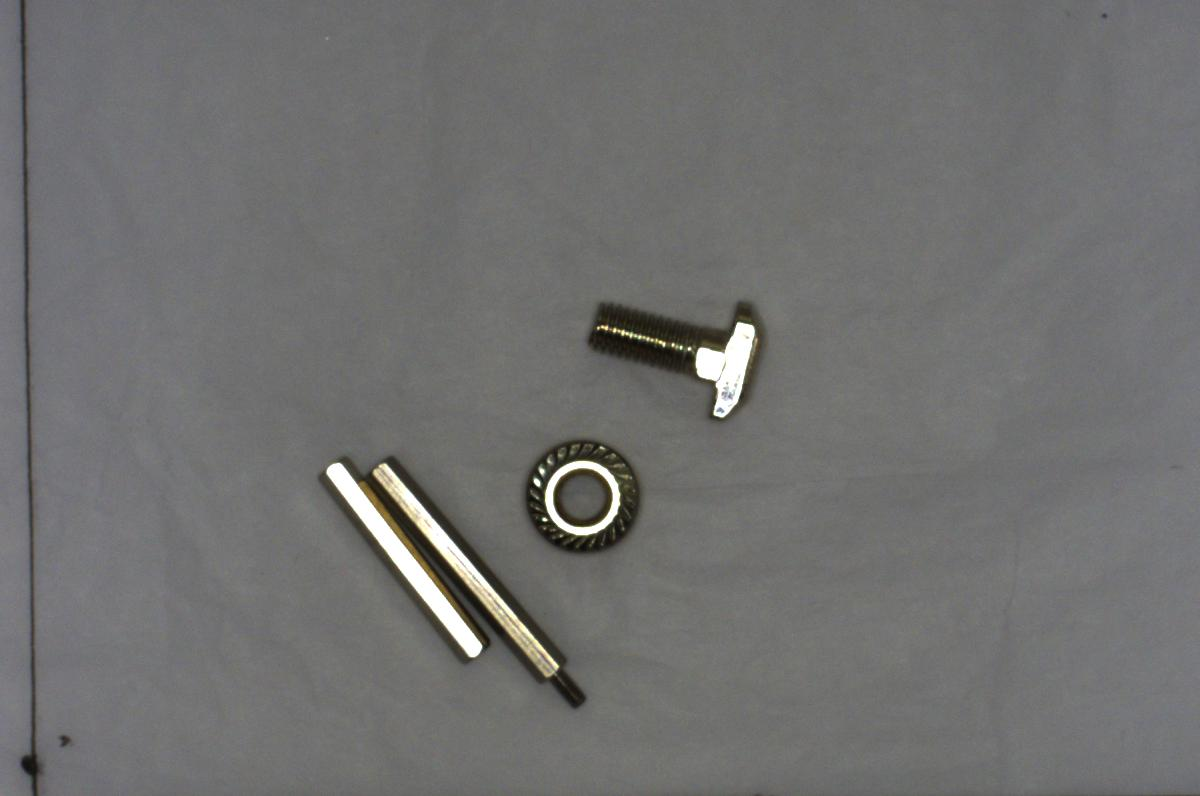Double hexagonal column: (306, 448, 492, 668)
Flange nut: (518, 433, 658, 562)
Hexagonal steel column: (367, 445, 599, 722)
T-shaped screw: (584, 279, 766, 422)
